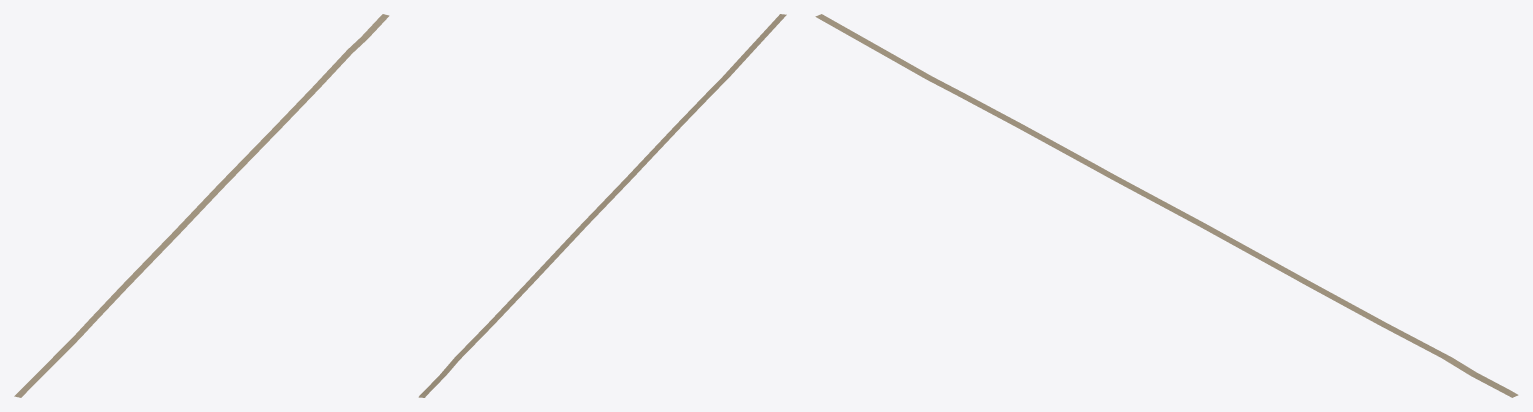
Rendered from farm_7_16_track.glb.
3 views of the same model, side by side, from view 1: azimuth 30°, elevation 25°; view 2: azimuth 210°, elevation 25°; view 3: azimuth 270°, elevation 25° (orthographic). The views are drawn at different scales.
Parts seen in each view (by area): view 1: geometry_0; view 2: geometry_0; view 3: geometry_0.
Part boxes in pixels (x1,y1,x2,y2): geometry_0: [14, 14, 389, 397]; geometry_0: [418, 14, 786, 397]; geometry_0: [815, 14, 1518, 397].
Bounding box in the file's own units: 347 × 2.35 × 272.
